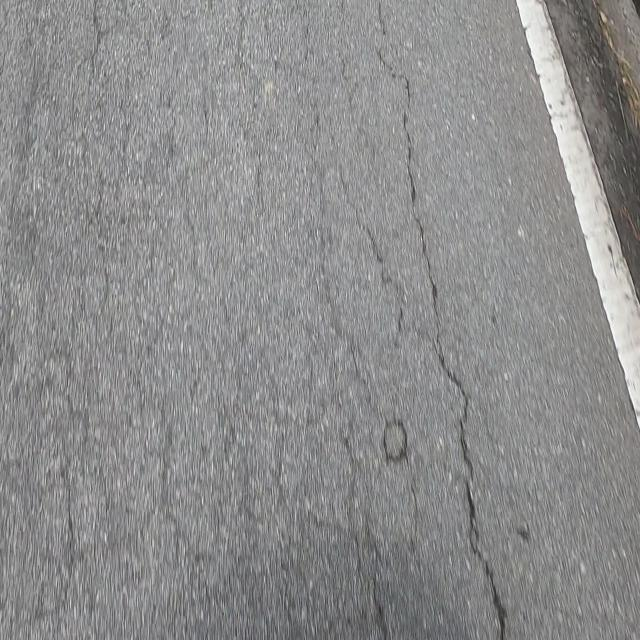Retak-Buaya: (55, 24, 422, 638)
Retak-Memanjang: (370, 54, 506, 637)
